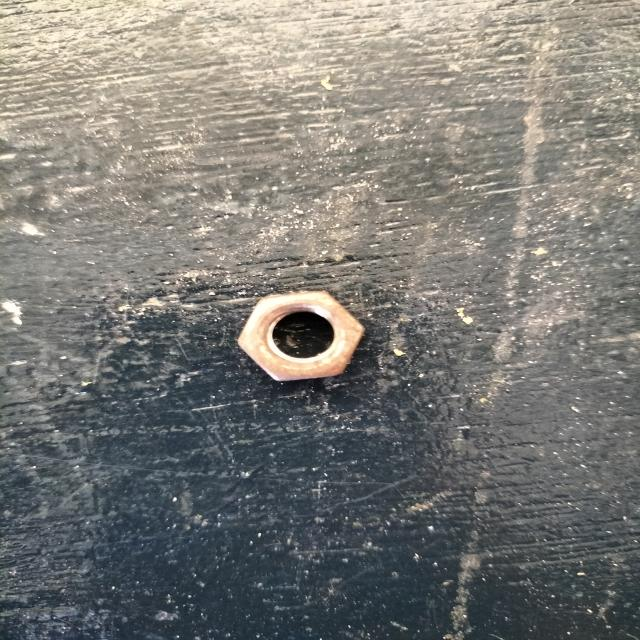nuts: (237, 292, 365, 382)
